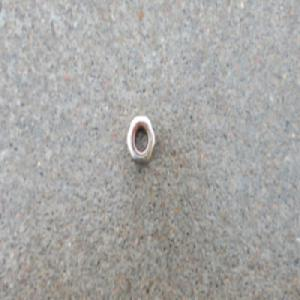Nut: (125, 115, 156, 166)
